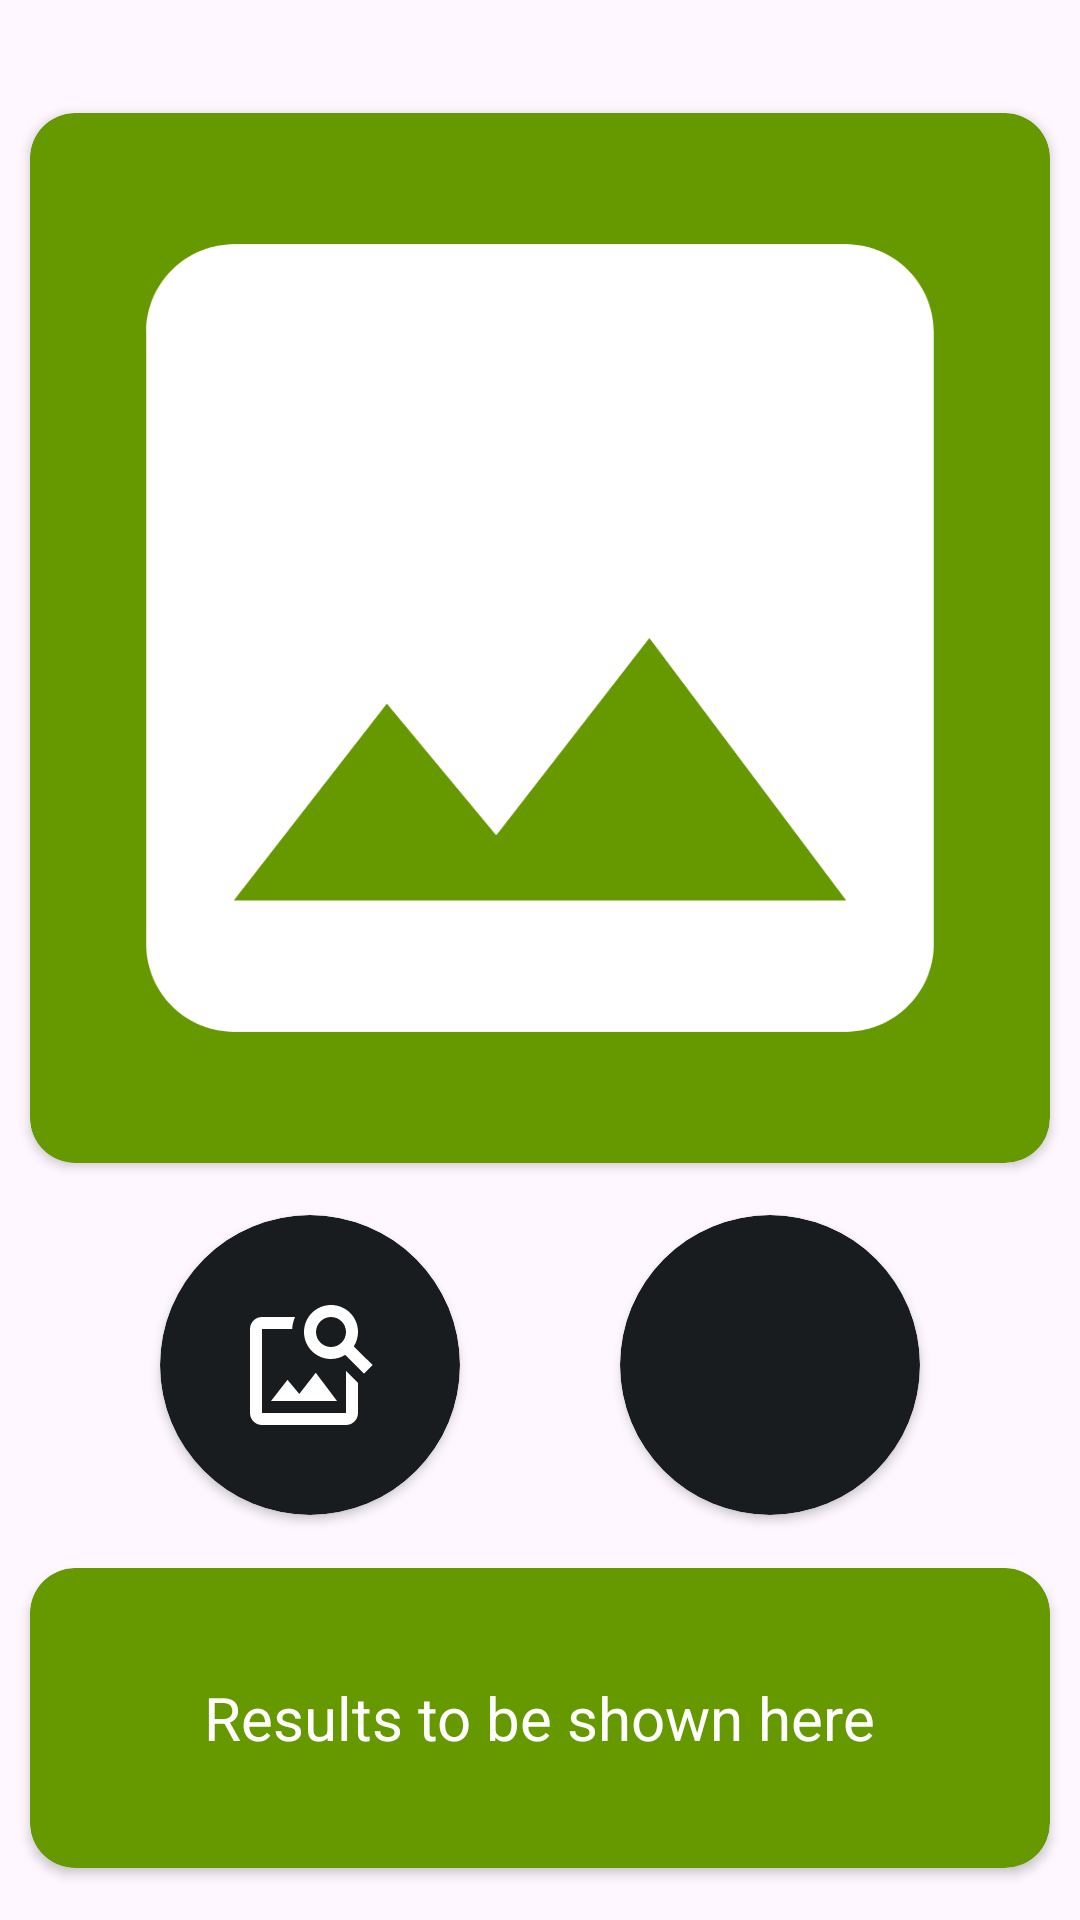

Where icons sit on this 1080px x 1920px app screen, as (x1, y1, x2, y2):
search: (250, 1305, 373, 1425)
